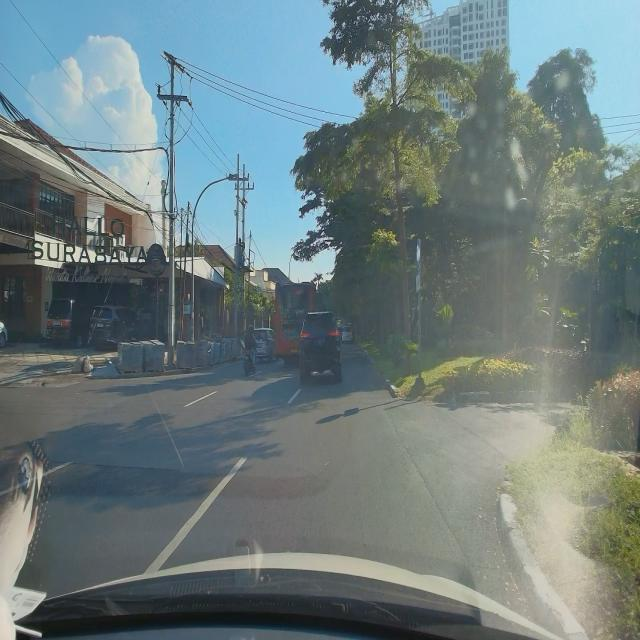car: (298, 308, 342, 384)
